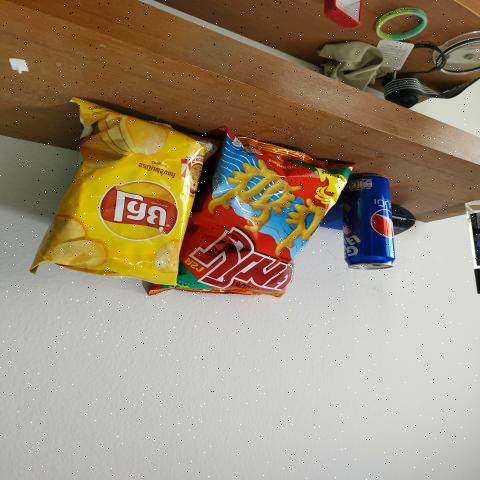pepsi_blue: (340, 174, 400, 280)
